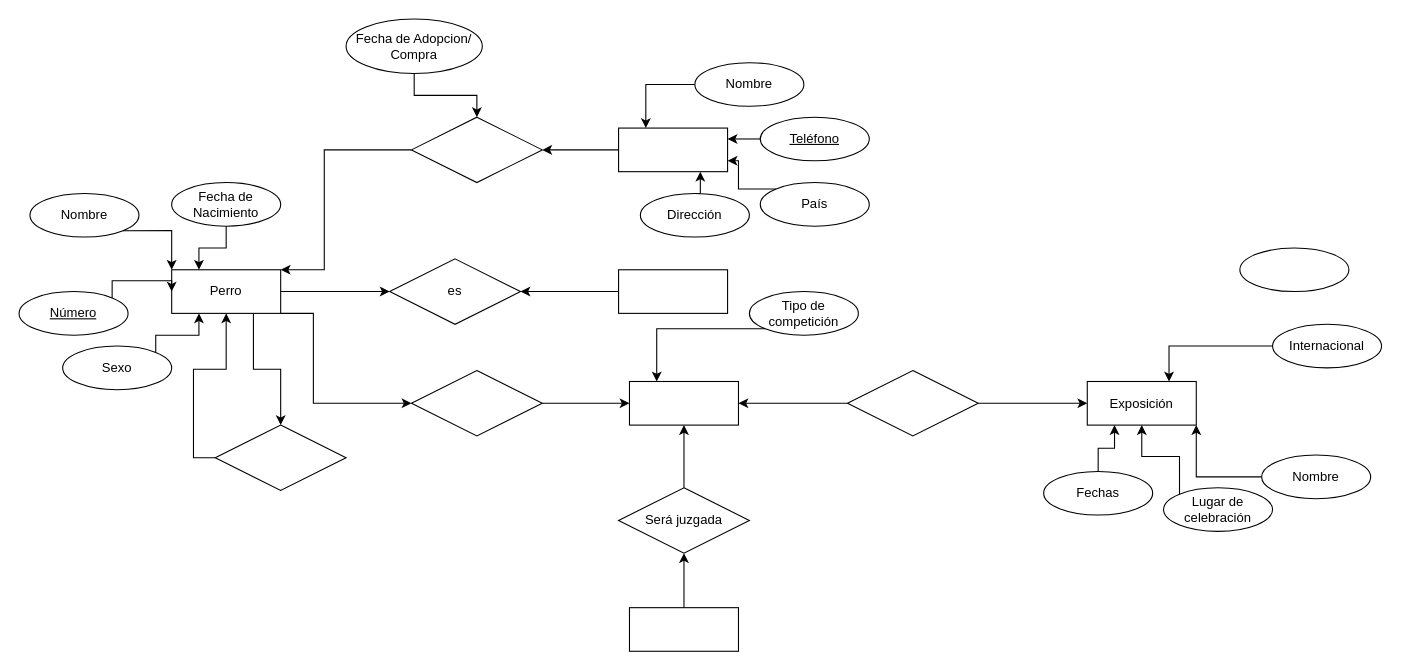
Some shapes in this 1401 by 670 pixel diagram are drawn without their labels. Each missing label, with the box of its shape:
Competiciones: (628, 380, 738, 425)
Compite en: (410, 370, 542, 436)
es padre: (214, 424, 346, 491)
Juez: (628, 607, 738, 651)
Nacional: (1239, 247, 1349, 292)
Perro de Raza Pura: (617, 269, 728, 313)
Pertenece: (846, 370, 978, 436)
Propietario: (617, 127, 728, 172)
Tiene: (410, 116, 542, 183)
